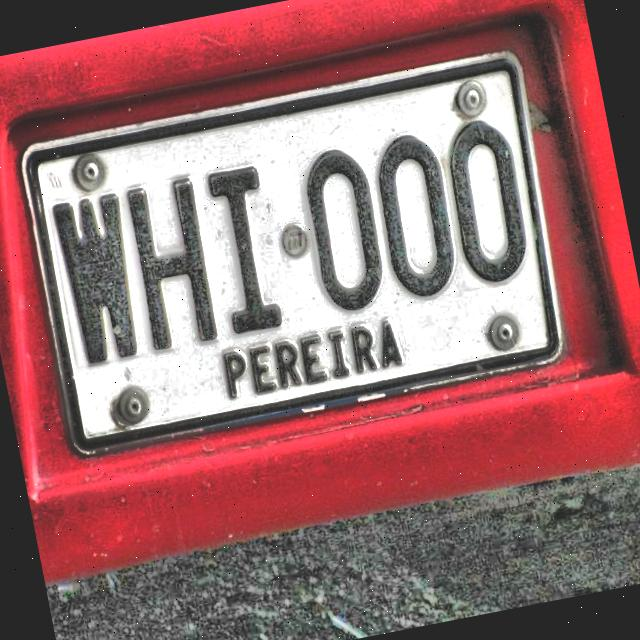plate: (28, 61, 556, 446)
